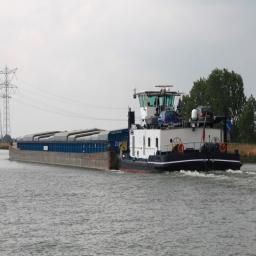tugboat: (119, 84, 245, 185)
